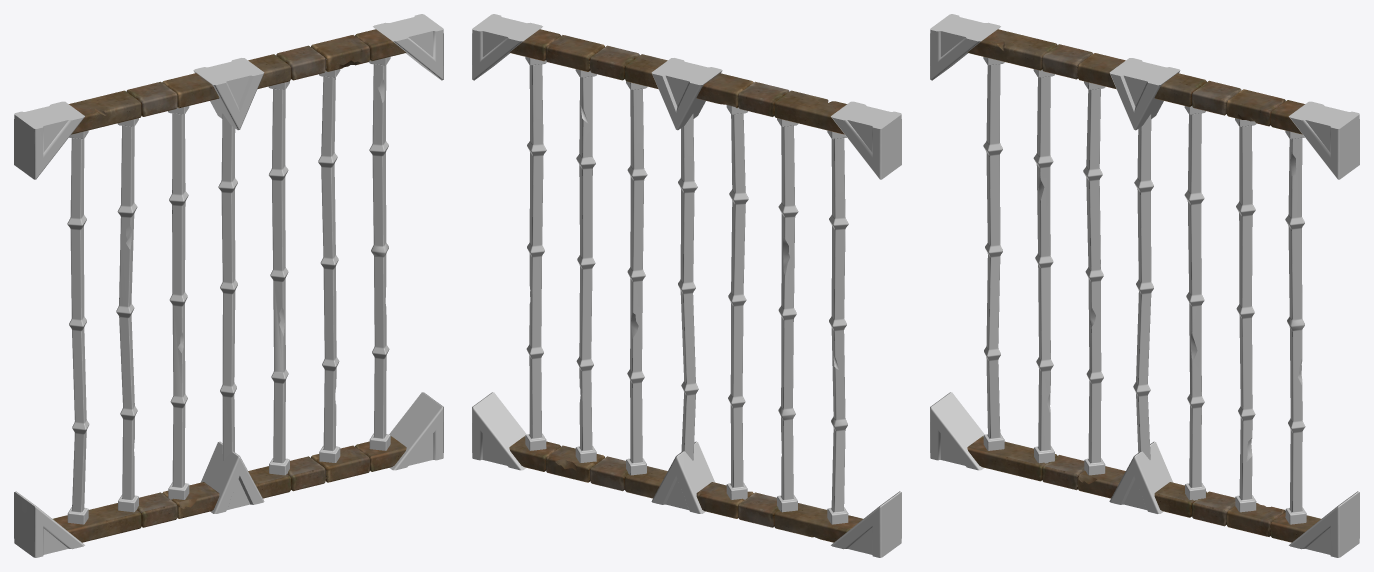
The picture shows the model from 3 angles, left to right: view 1: azimuth 30°, elevation 25°; view 2: azimuth 150°, elevation 25°; view 3: azimuth 330°, elevation 25°; orthographic projection.
Visible parts, largest first — view 1: SM_Vault_4x4_Grille_01_LOD0; view 2: SM_Vault_4x4_Grille_01_LOD0; view 3: SM_Vault_4x4_Grille_01_LOD0.
Part boxes in pixels (x1,y1,x2,y2): SM_Vault_4x4_Grille_01_LOD0: (14,14,443,557); SM_Vault_4x4_Grille_01_LOD0: (472,14,901,557); SM_Vault_4x4_Grille_01_LOD0: (930,14,1359,557).
Bounding box in the file's own units: 4 × 4 × 0.3665.
